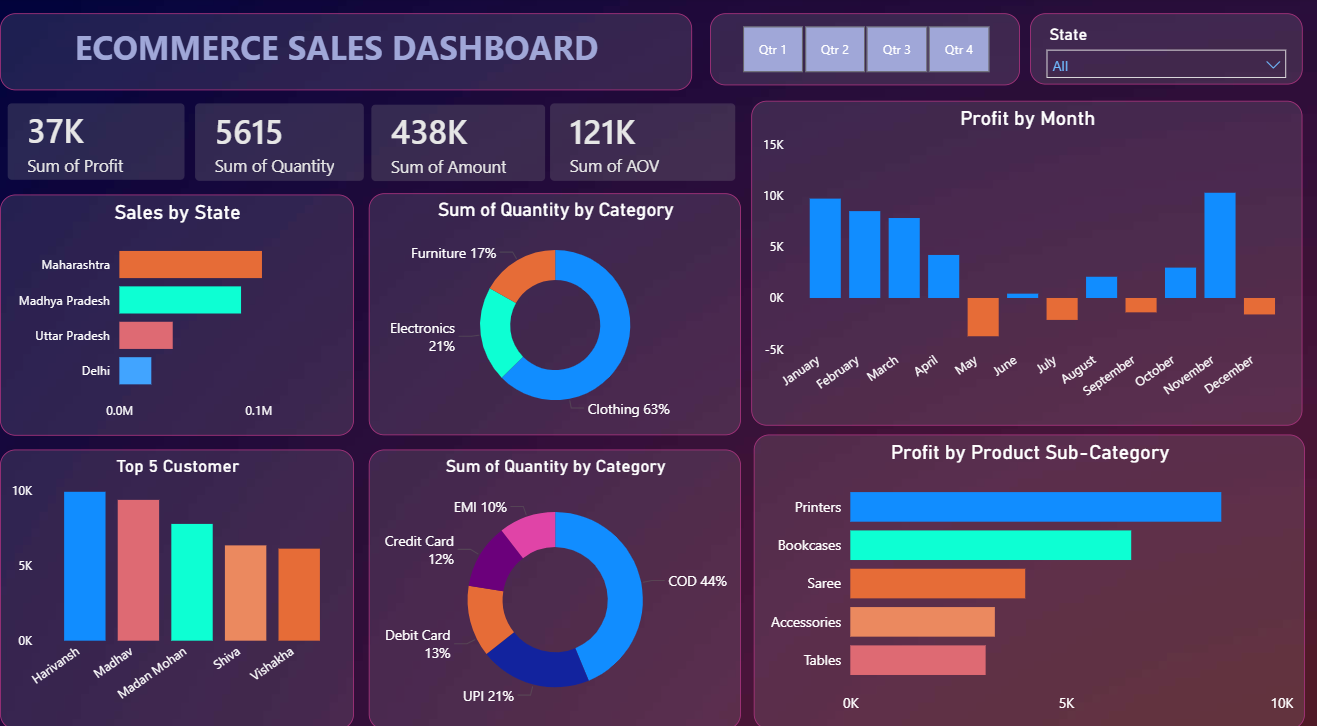

The page's visual inventory and layout, read from the dashboard file:
{"tool":"powerbi","page":{"name":"Page 1","canvas":[1280,720],"ordinal":0},"visuals":[{"type":"columnChart","title":"Profit by Month","fields":{"Y":["Sum(Details.Profit)"],"Category":["Orders (1).Order Date.Variation.Date Hierarchy.Month"]},"box":[734.7,100.1,532,313.7],"z":0},{"type":"donutChart","title":"Sum of Quantity by Category","fields":{"Category":["Details.Category"],"Y":["Sum(Details.Quantity)"]},"box":[365,189.4,359.5,233.3],"z":1000},{"type":"barChart","title":" Profit by  Product Sub-Category","fields":{"Category":["Details.Sub-Category"],"Y":["Sum(Details.Profit)"]},"box":[737.1,422.3,532,284.7],"z":2000},{"type":"donutChart","title":"Sum of Quantity by Category","fields":{"Y":["Sum(Details.Quantity)"],"Category":["Details.PaymentMode"]},"box":[365,436.4,359.5,270.3],"z":3000},{"type":"cardVisual","fields":{"Data":["Sum(Details.Profit)"]},"box":[0,85.7,205.1,108.6],"z":4000},{"type":"barChart","title":"Sales  by State ","fields":{"Category":["Orders (1).State"],"Y":["Sum(Details.Amount)"]},"box":[9.7,190.6,341.4,232.8],"z":5000},{"type":"columnChart","title":"Top 5 Customer","fields":{"Category":["Orders (1).CustomerName"],"Y":["Sum(Details.Amount)"]},"box":[9.6,436.4,341.7,270.3],"z":6000},{"type":"textbox","box":[9.7,15.7,668.4,74.8],"z":7000},{"type":"slicer","fields":{"Values":["Orders (1).Order Date.Variation.Date Hierarchy.Quarter"]},"box":[694.9,15.7,299.2,70],"z":8000},{"type":"slicer","fields":{"Values":["Orders (1).State"]},"box":[1003.8,15.7,263,68.8],"z":9000},{"type":"cardVisual","fields":{"Data":["Sum(Details.Amount)"]},"box":[351.1,86.9,202.7,108.6],"z":10000},{"type":"cardVisual","fields":{"Data":["Sum(Details.AOV)"]},"box":[523.6,85.7,213.5,109.8],"z":11000},{"type":"cardVisual","fields":{"Data":["Sum(Details.Quantity)"]},"box":[181,85.7,197.9,109.8],"z":12000}]}

Visuals, with their boxes in screenshot pixels (x1, y1, x2, y2), scaled from the page's 1280x720 canvas onto the 1317x726 screenshot:
"Profit by Month" columnChart: <region>756, 101, 1303, 417</region>
"Sum of Quantity by Category" donutChart: <region>376, 191, 745, 426</region>
" Profit by  Product Sub-Category" barChart: <region>758, 426, 1306, 713</region>
"Sum of Quantity by Category" donutChart: <region>376, 440, 745, 713</region>
cardVisual - Sum(Details.Profit): <region>0, 86, 211, 196</region>
"Sales  by State " barChart: <region>10, 192, 361, 427</region>
"Top 5 Customer" columnChart: <region>10, 440, 361, 713</region>
textbox: <region>10, 16, 698, 91</region>
slicer - Orders (1).Order Date.Variation.Date Hierarchy.Quarter: <region>715, 16, 1023, 86</region>
slicer - Orders (1).State: <region>1033, 16, 1303, 85</region>
cardVisual - Sum(Details.Amount): <region>361, 88, 570, 197</region>
cardVisual - Sum(Details.AOV): <region>539, 86, 758, 197</region>
cardVisual - Sum(Details.Quantity): <region>186, 86, 390, 197</region>
